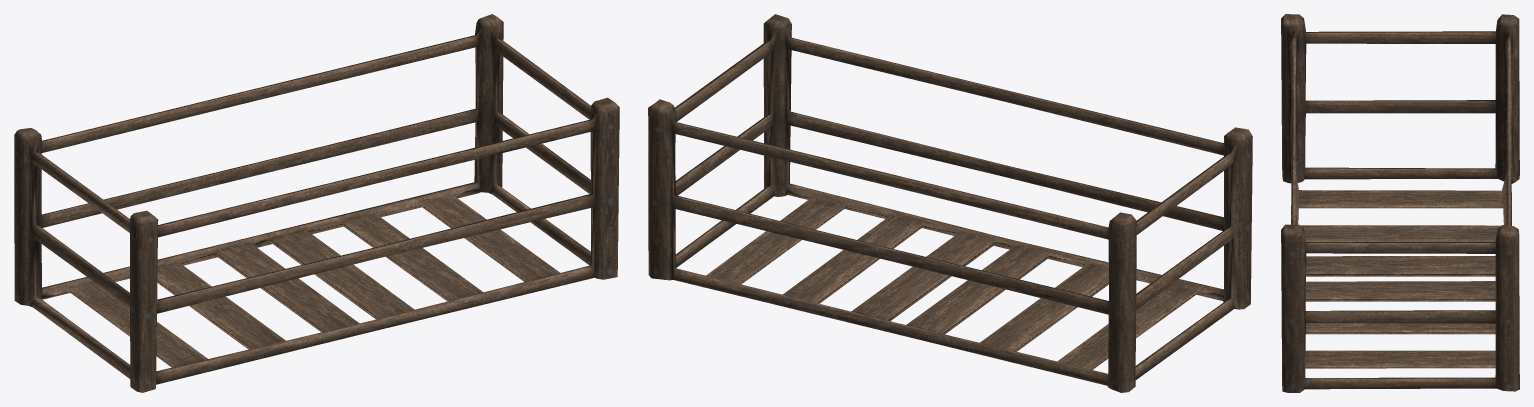
File: Palet.fbx
3 views of the same model, side by side, from view 1: azimuth 30°, elevation 25°; view 2: azimuth 150°, elevation 25°; view 3: azimuth 270°, elevation 25° (orthographic). The views are drawn at different scales.
Visible parts, largest first — view 1: RetopoGroup1; view 2: RetopoGroup1; view 3: RetopoGroup1.
Part boxes in pixels (box(x1,y1,x2,y2)): RetopoGroup1: box(14, 14, 619, 392); RetopoGroup1: box(648, 14, 1252, 392); RetopoGroup1: box(1281, 14, 1519, 392).
Bounding box in the file's own units: 145 × 49.73 × 66.35.
